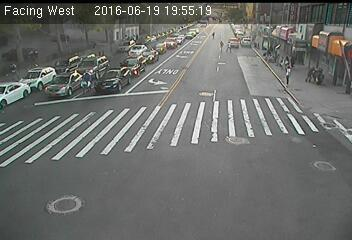neg: (259, 113, 286, 149), (73, 67, 98, 101), (98, 137, 119, 164), (236, 174, 254, 198), (55, 5, 73, 29), (112, 82, 129, 105), (33, 139, 50, 162), (177, 177, 194, 199), (308, 161, 324, 182), (327, 105, 339, 122), (144, 64, 156, 80), (196, 101, 208, 117), (235, 71, 247, 87), (203, 61, 212, 73), (159, 133, 167, 144)
pos: (276, 63, 297, 91), (222, 37, 234, 54), (206, 27, 217, 41), (288, 55, 297, 68), (282, 55, 290, 66), (218, 39, 225, 49)
